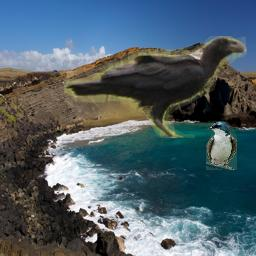Crow: (64, 36, 247, 138)
Swallow: (206, 121, 237, 170)
